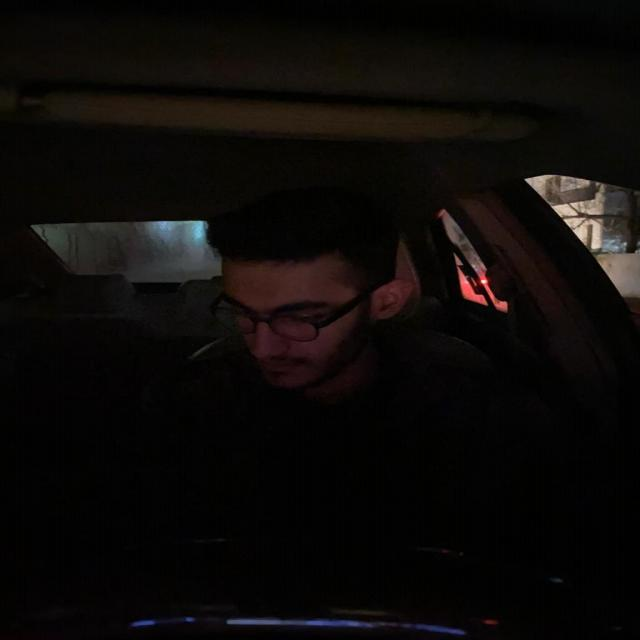drowsy: (192, 194, 421, 402)
